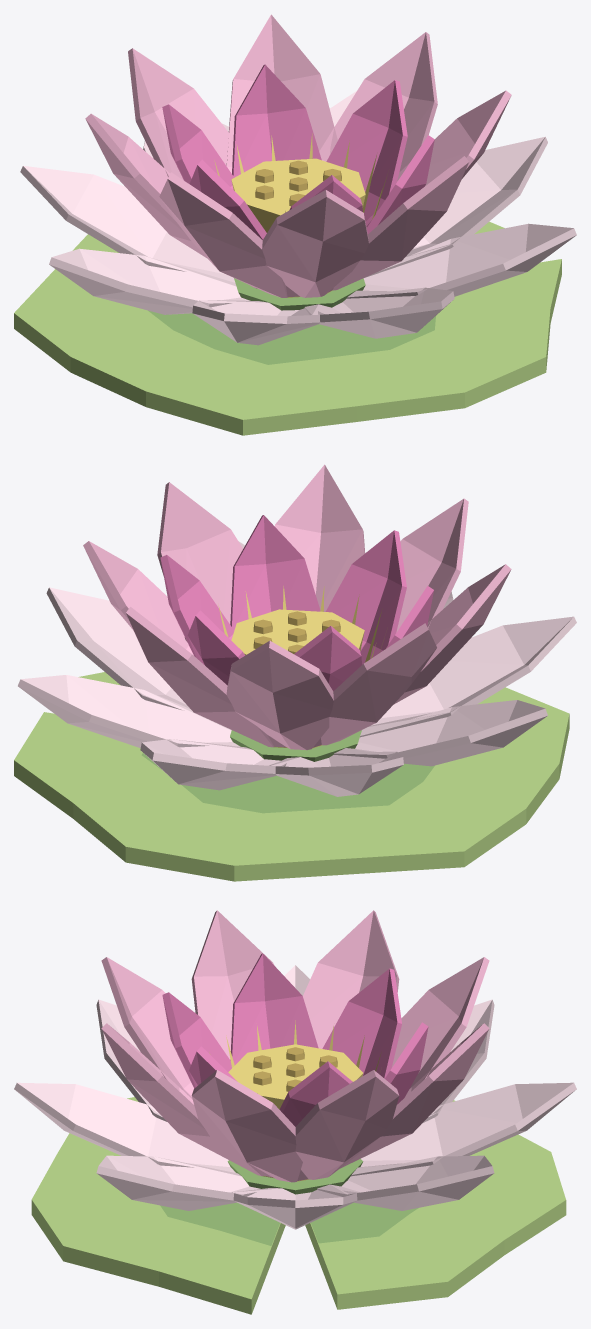
File: LotusHazard.fbx
The picture shows the model from 3 angles, top to bottom: view 1: azimuth 30°, elevation 25°; view 2: azimuth 150°, elevation 25°; view 3: azimuth 270°, elevation 25°; orthographic projection. The views are drawn at different scales.
Visible parts, largest first — view 1: LotusHazard; view 2: LotusHazard; view 3: LotusHazard.
Part boxes in pixels (box(x1,y1,x2,y2)): LotusHazard: box(14, 14, 576, 435); LotusHazard: box(14, 464, 576, 881); LotusHazard: box(14, 910, 576, 1314).
Bounding box in the file's own units: 1.33 × 0.5459 × 1.33.
